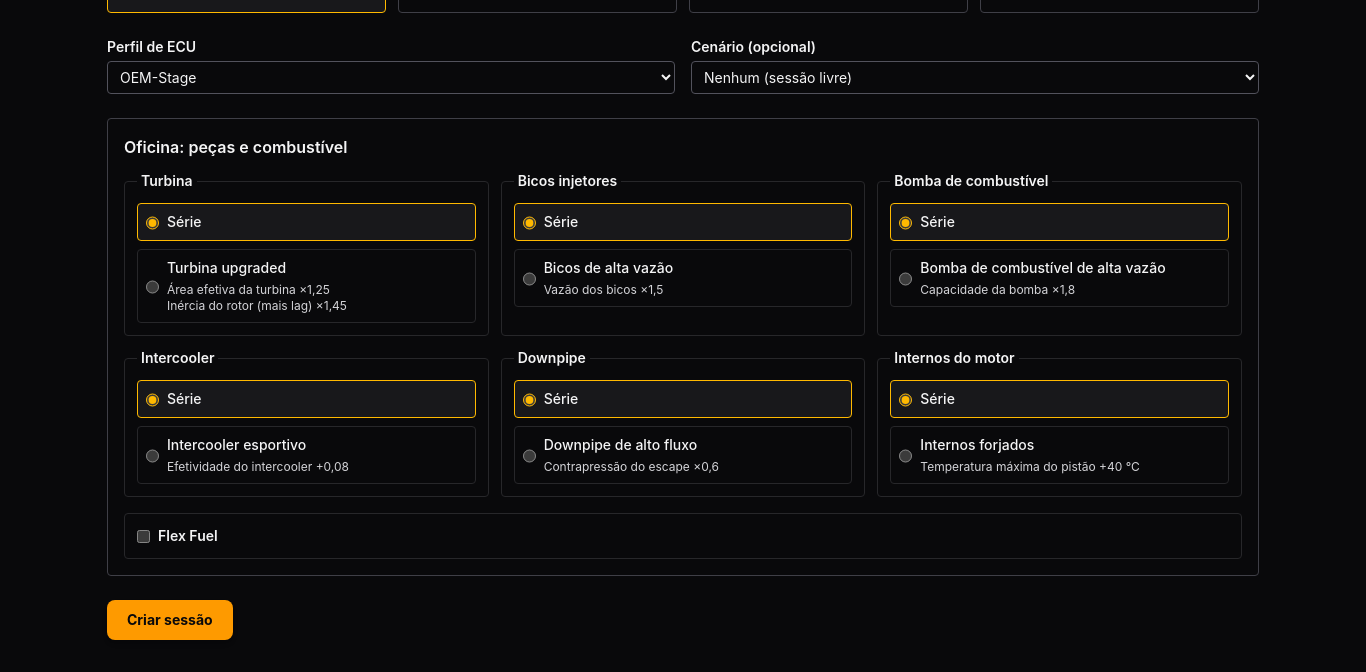
Scenario: HomePage com a oficina (002 RF-19) › erro 409 FUEL_NOT_ALLOWED tem mensagem clara
(page scrolled)
Click the checkbox labelled "Flex Fuel".
click(144, 536)  # box [137,530,150,542]
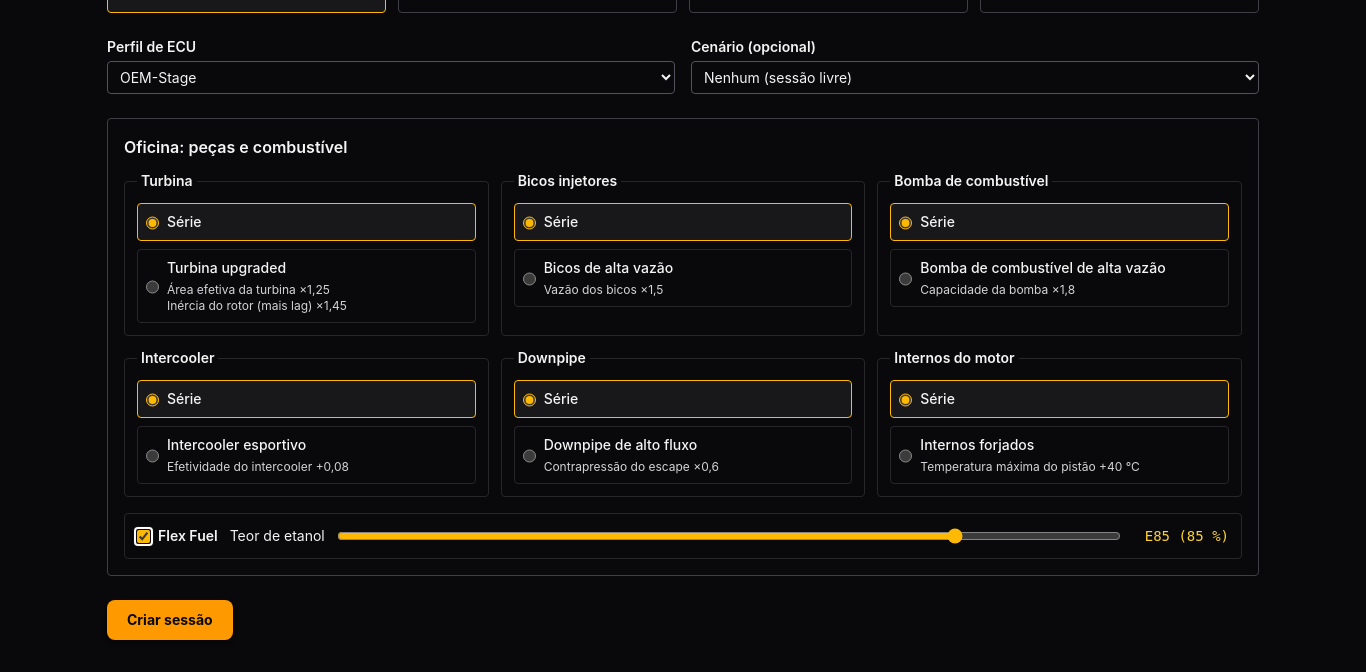
Click the button "Criar sessão".
click(170, 620)  # box [107,600,233,640]
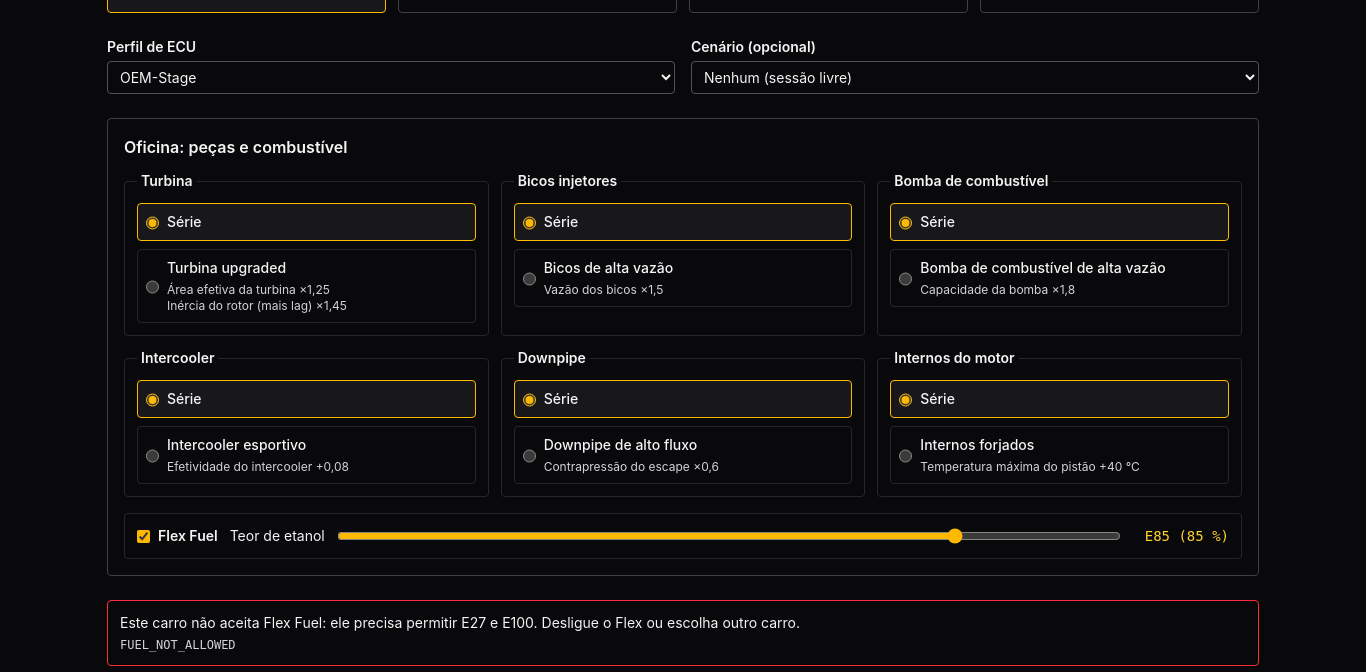
Result: the message shows "não aceita Flex Fuel" at [120,614,800,631]
Result: the message shows "FUEL_NOT_ALLOWED" at [120,638,236,652]
